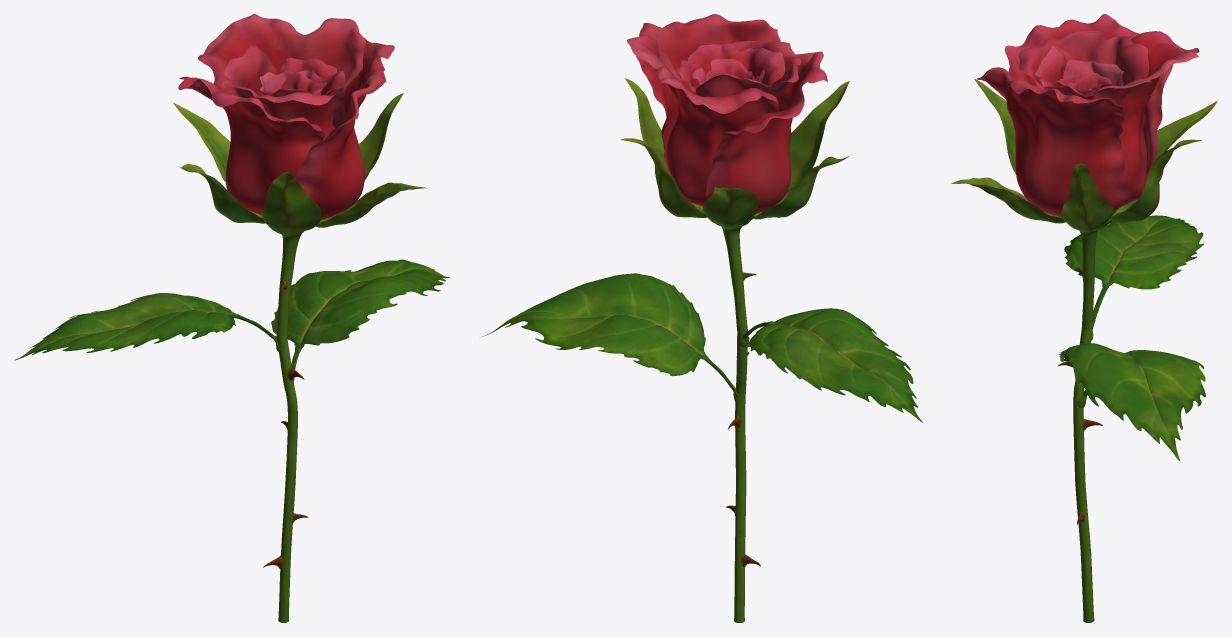
Rendered from rose.glb.
3 renders of one model, left to right at view 1: azimuth 30°, elevation 25°; view 2: azimuth 150°, elevation 25°; view 3: azimuth 270°, elevation 25°, orthographic. The views are drawn at different scales.
Visible parts, largest first — view 1: Leaf_stems_hp_Rose_0; view 2: Leaf_stems_hp_Rose_0; view 3: Leaf_stems_hp_Rose_0.
Boxes of the visible parts, x1=… form: Leaf_stems_hp_Rose_0: x1=14, y1=14, x2=450, y2=622; Leaf_stems_hp_Rose_0: x1=482, y1=14, x2=922, y2=622; Leaf_stems_hp_Rose_0: x1=951, y1=14, x2=1217, y2=622.
Bounding box in the file's own units: 1.26 × 1.56 × 0.6506.
1 material, 1 textured.
